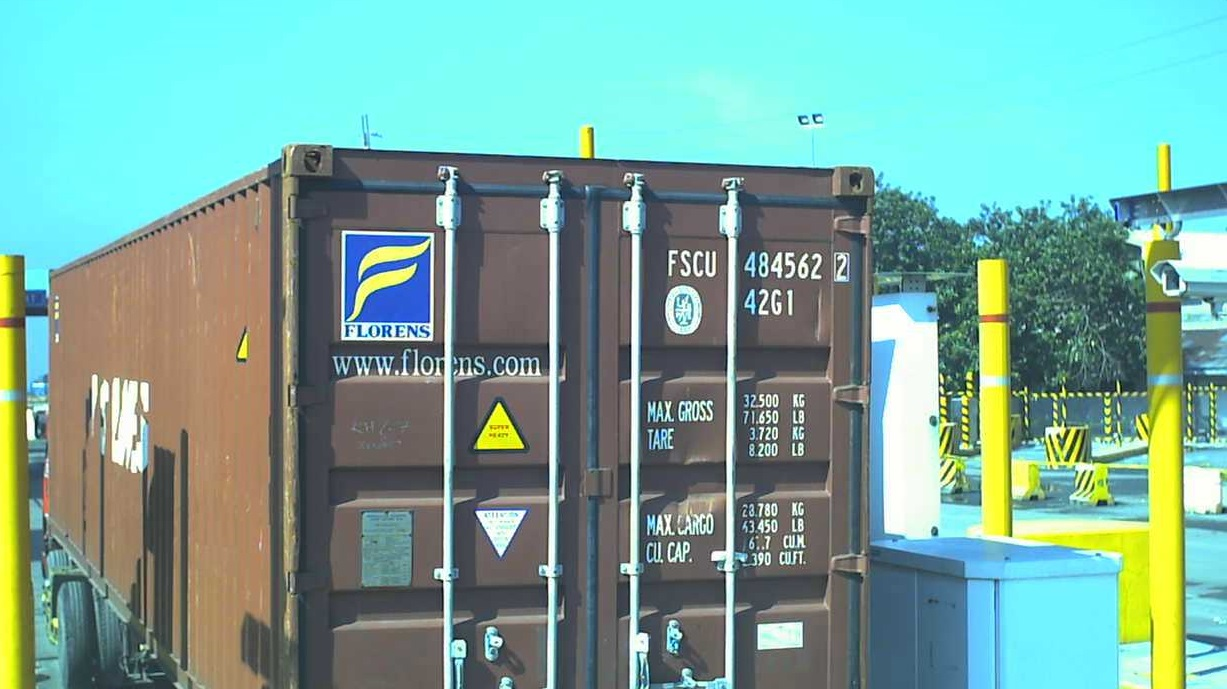container_door: (286, 142, 863, 689)
